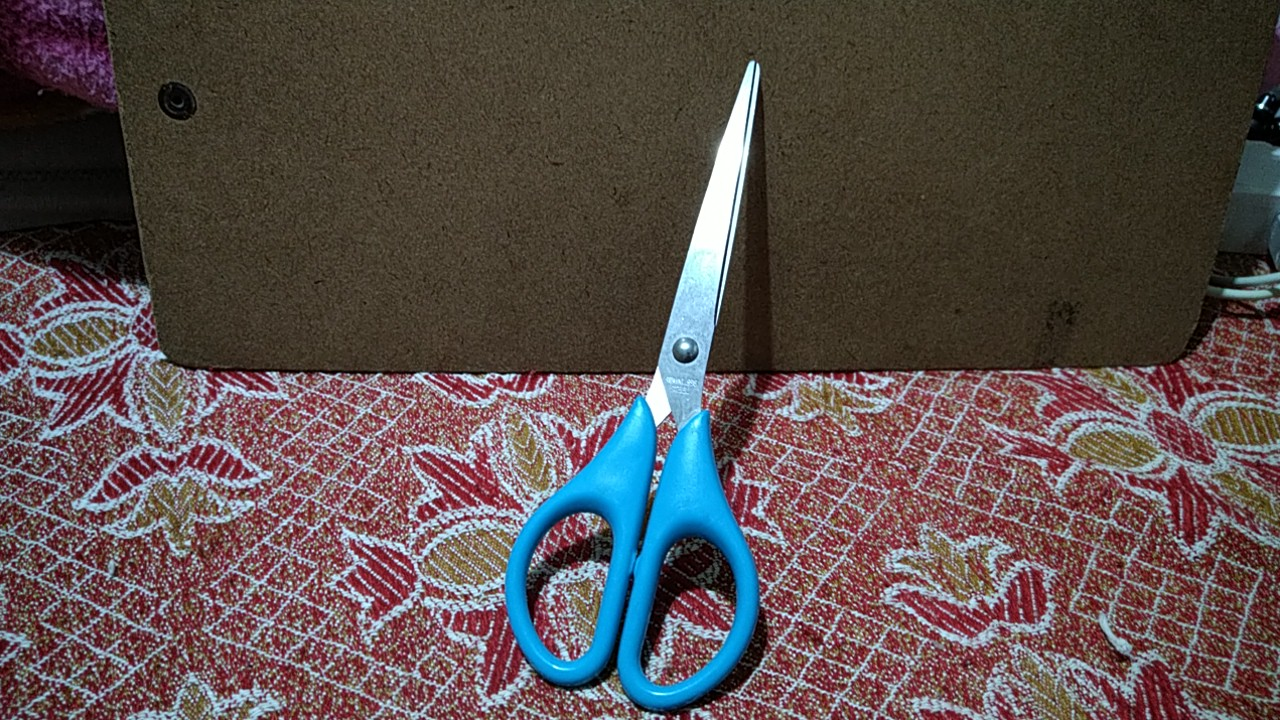scissor: (493, 38, 789, 720)
